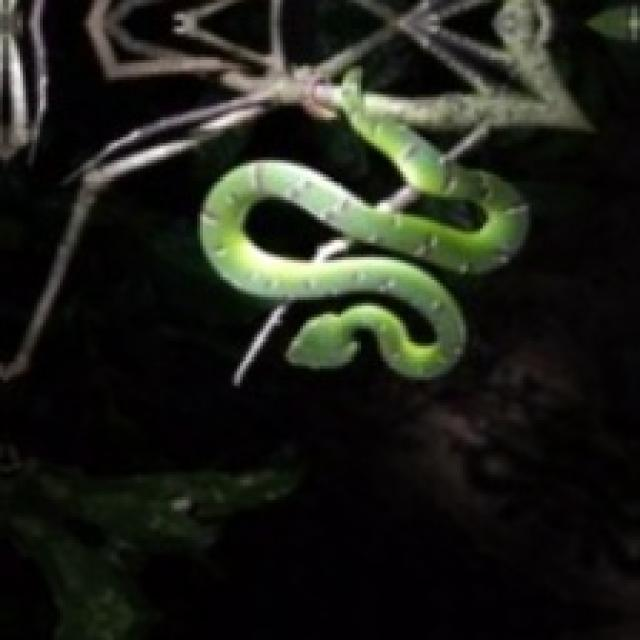north ph temple pitviper: (200, 71, 526, 374)
